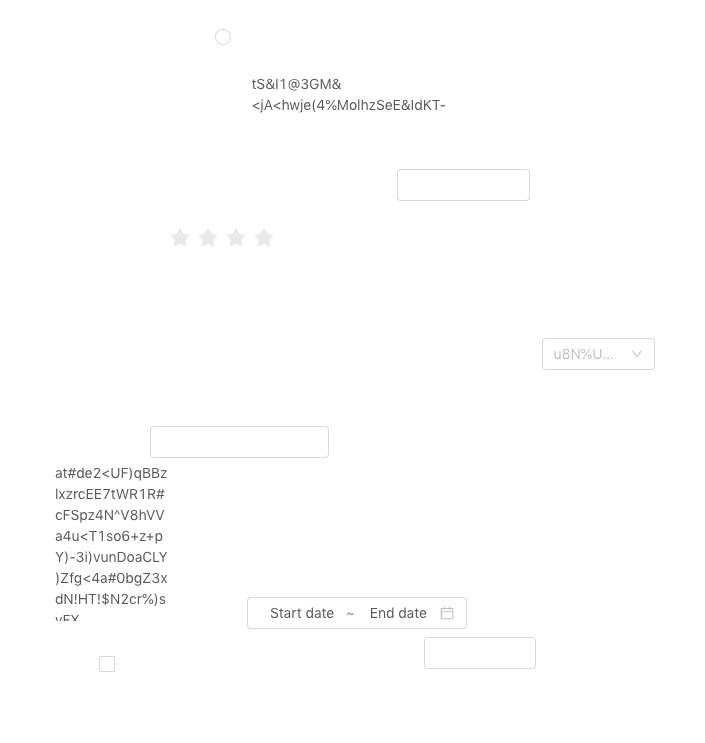Checkbox: (99, 653, 115, 674)
Input: (150, 426, 329, 458), (397, 169, 530, 201), (424, 637, 536, 669)
Radio: (215, 26, 231, 46)
RangePicker: (247, 597, 467, 629)
Rate: (170, 221, 290, 253)
Select: (542, 338, 655, 370)
Text: (55, 462, 169, 621), (252, 73, 507, 119)
